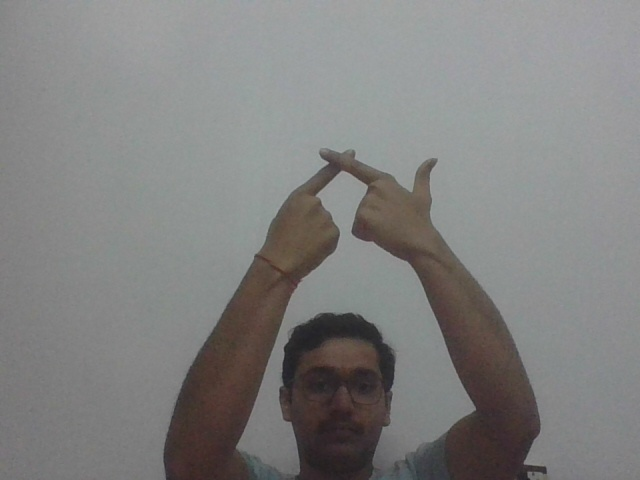J: (288, 140, 441, 266)
